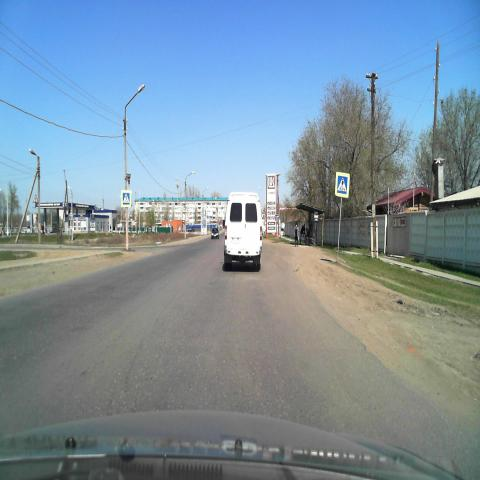5_19_1: (335, 172, 350, 199), (121, 189, 132, 207)
